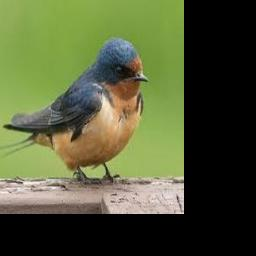Swallow: (0, 37, 148, 180)
